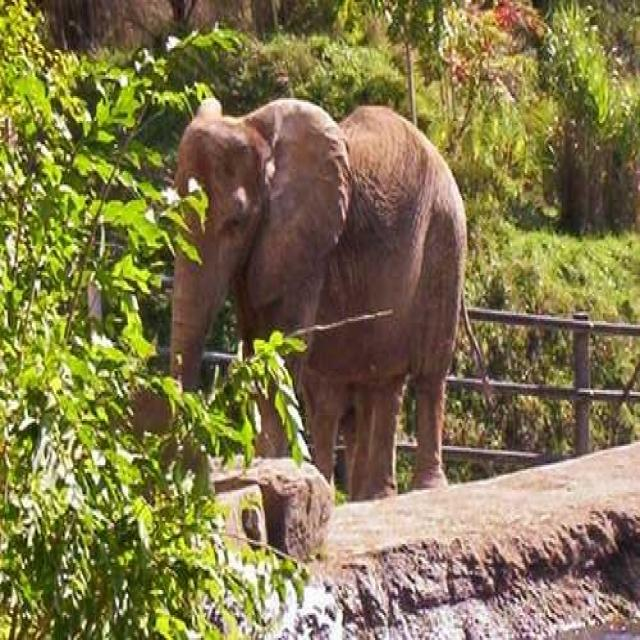Elephant: (168, 94, 488, 502)
